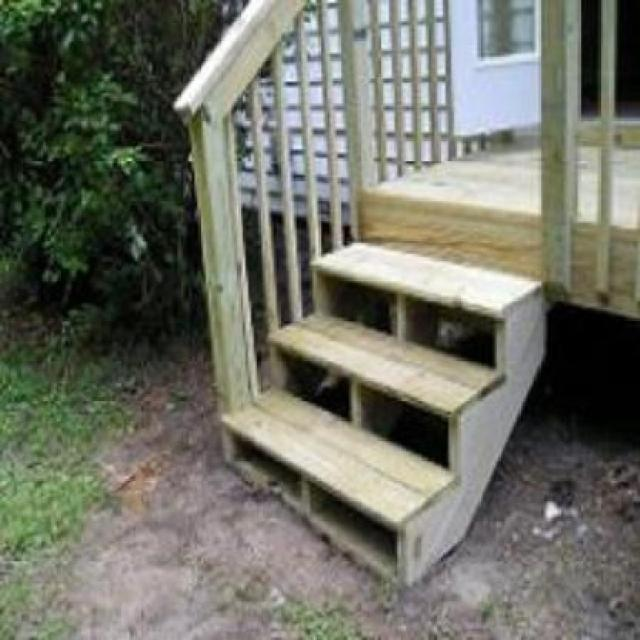stair: (202, 167, 556, 598)
